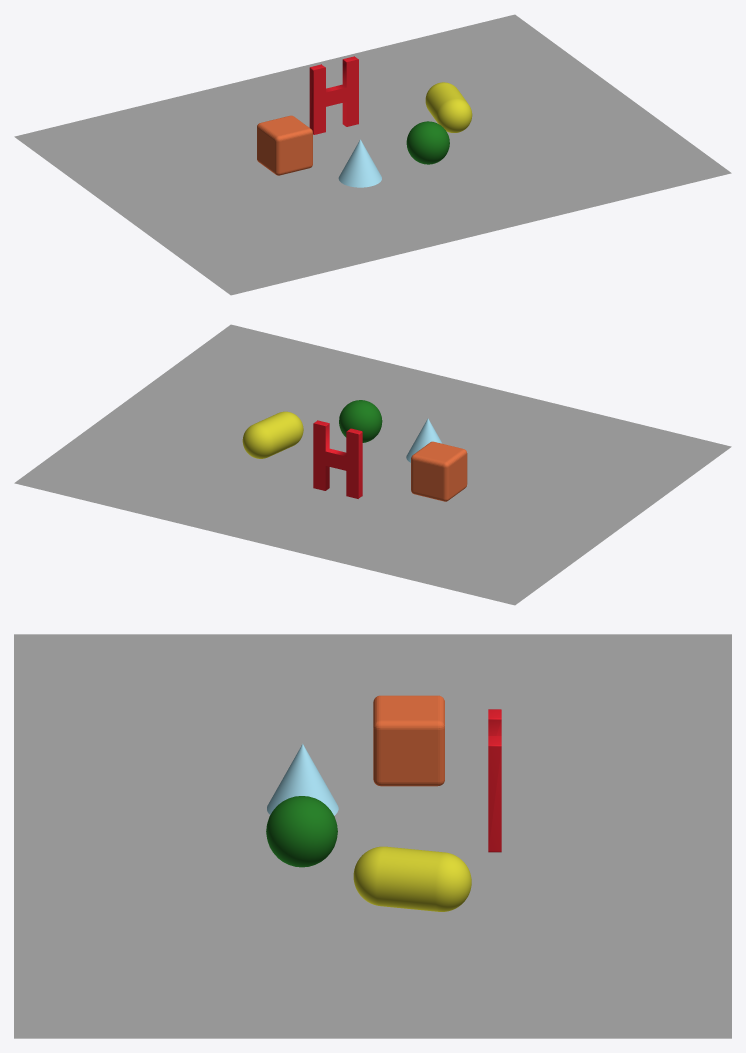
3 views of the same model, one above another, from view 1: azimuth 30°, elevation 25°; view 2: azimuth 150°, elevation 25°; view 3: azimuth 270°, elevation 25° (orthographic). The views are drawn at different scales.
Parts seen in each view (by area): view 1: Plane, cube, H, capsule, Sphere, cone; view 2: Plane, cube, H, capsule, Sphere, cone; view 3: Plane, cube, capsule, Sphere, cone, H.
Boxes of the visible parts, x1,y1,x2,y2 form: Plane: [14, 14, 731, 295]; cube: [257, 115, 312, 175]; H: [309, 56, 358, 134]; capsule: [425, 82, 472, 132]; Sphere: [406, 121, 449, 164]; cone: [338, 139, 381, 187]; Plane: [14, 324, 731, 605]; cube: [411, 441, 467, 501]; H: [313, 420, 362, 498]; capsule: [242, 411, 303, 458]; Sphere: [339, 400, 382, 442]; cone: [406, 418, 442, 462]; Plane: [14, 634, 731, 1038]; cube: [373, 695, 444, 786]; capsule: [353, 846, 471, 911]; Sphere: [266, 796, 337, 867]; cone: [267, 744, 338, 815]; H: [488, 709, 501, 852].
Bounding box in the file's own units: 80 × 9.98 × 60.
